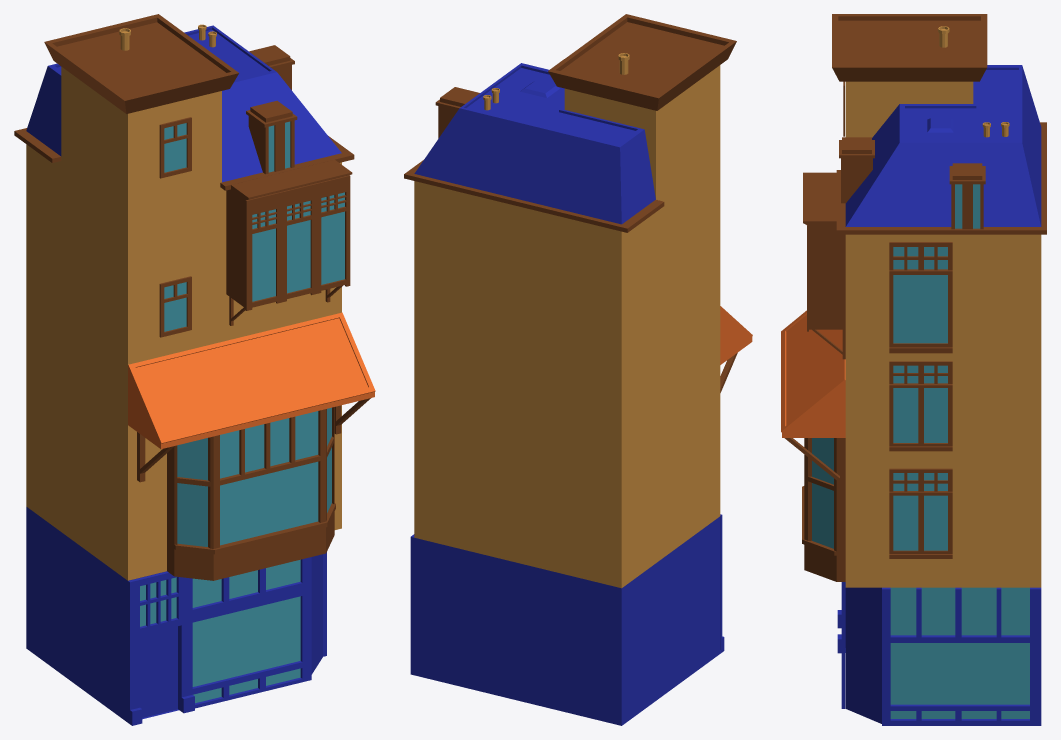
File: FBX_Departamento03.fbx
The picture shows the model from 3 angles, left to right: view 1: azimuth 30°, elevation 25°; view 2: azimuth 150°, elevation 25°; view 3: azimuth 270°, elevation 25°; orthographic projection. The views are drawn at different scales.
Parts seen in each view (by area): view 1: MSH_Departamento03; view 2: MSH_Departamento03; view 3: MSH_Departamento03.
Boxes of the visible parts, x1,y1,x2,y2 form: MSH_Departamento03: (14, 14, 375, 725); MSH_Departamento03: (404, 14, 752, 725); MSH_Departamento03: (781, 14, 1046, 725).
Size of the model in its own units: 342 by 905 by 353.
